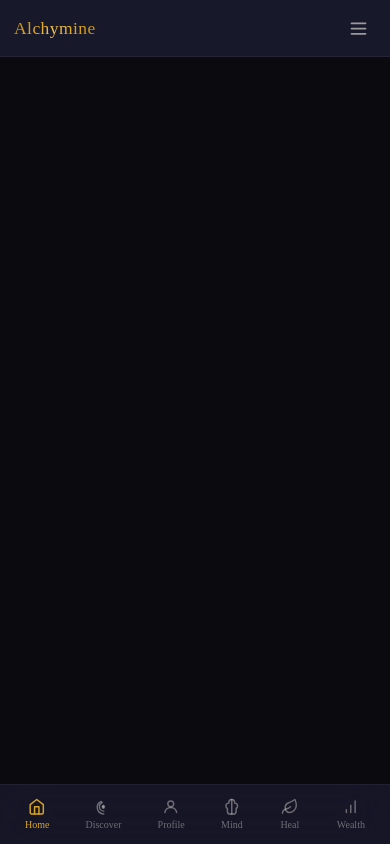
Navigation › toggles mobile menu when button is clicked
The width and height of the screenshot is (390, 844).
Click the button named "Open navigation menu" at (358, 28), box [341, 10, 376, 46]
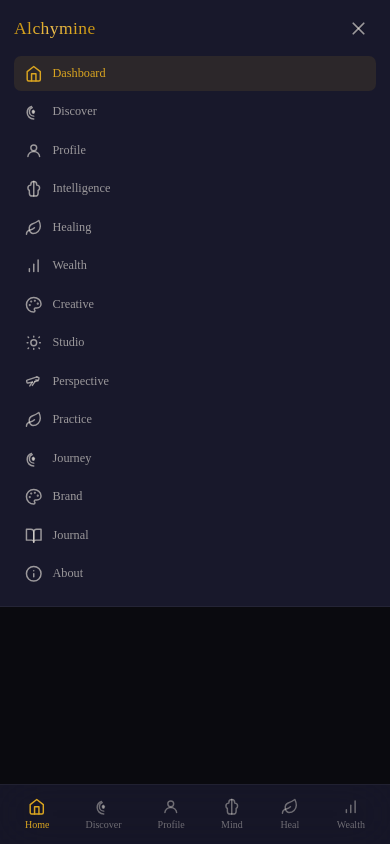
Expected: the button named "Close navigation menu" is shown, [341, 10, 376, 46]
